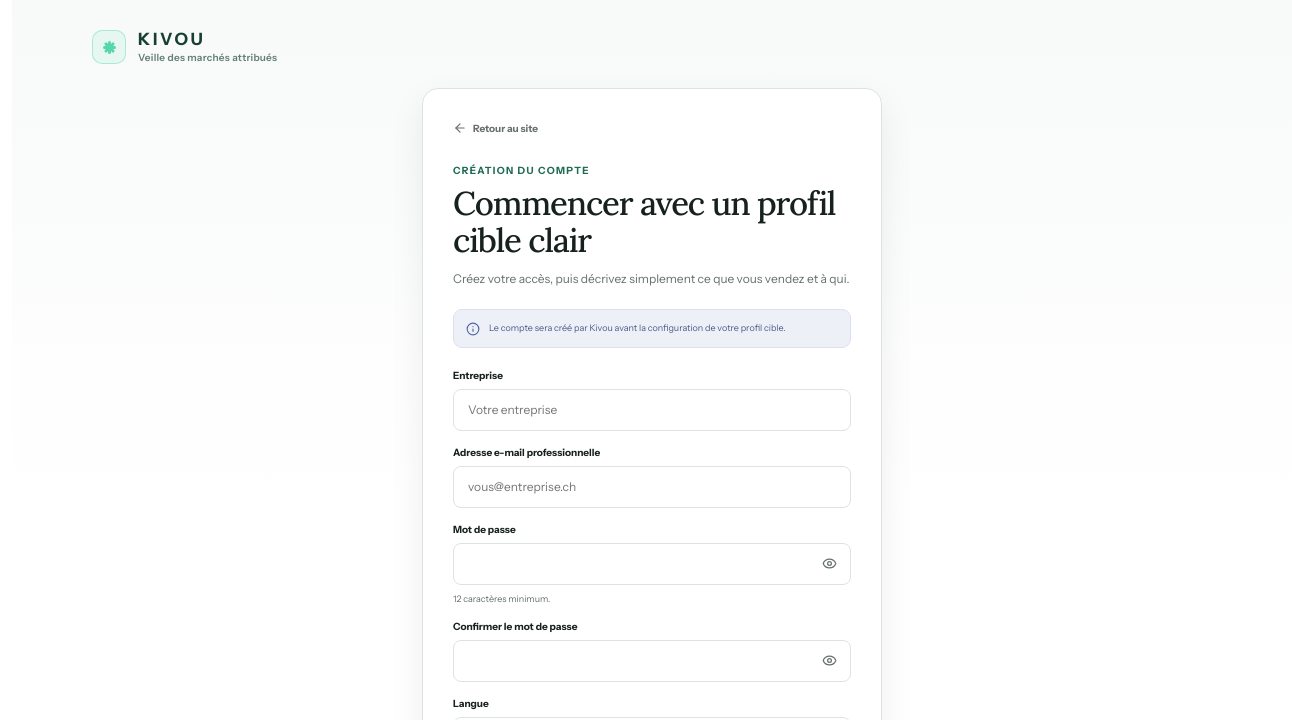
Test: parcours d’entrée de la référence connectée › transporte un choix payant du catalogue vers l’onboarding sans stockage
This screenshot has width=1292, height=720.
Type "Entreprise Test" into the field labelled "Entreprise". click: (652, 410)
box: [453, 388, 851, 430]
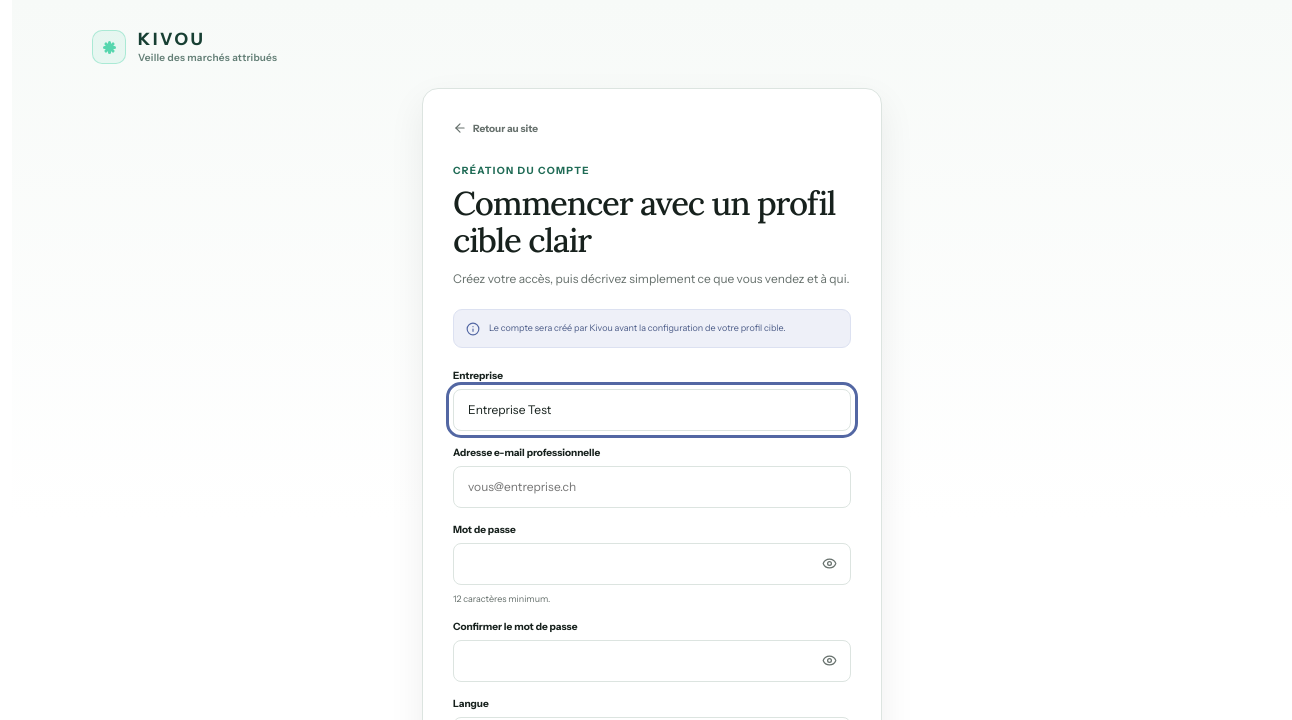
Type "test@example.test" into the field labelled "Adresse e-mail professionnelle". click: (652, 486)
box: [453, 466, 851, 508]
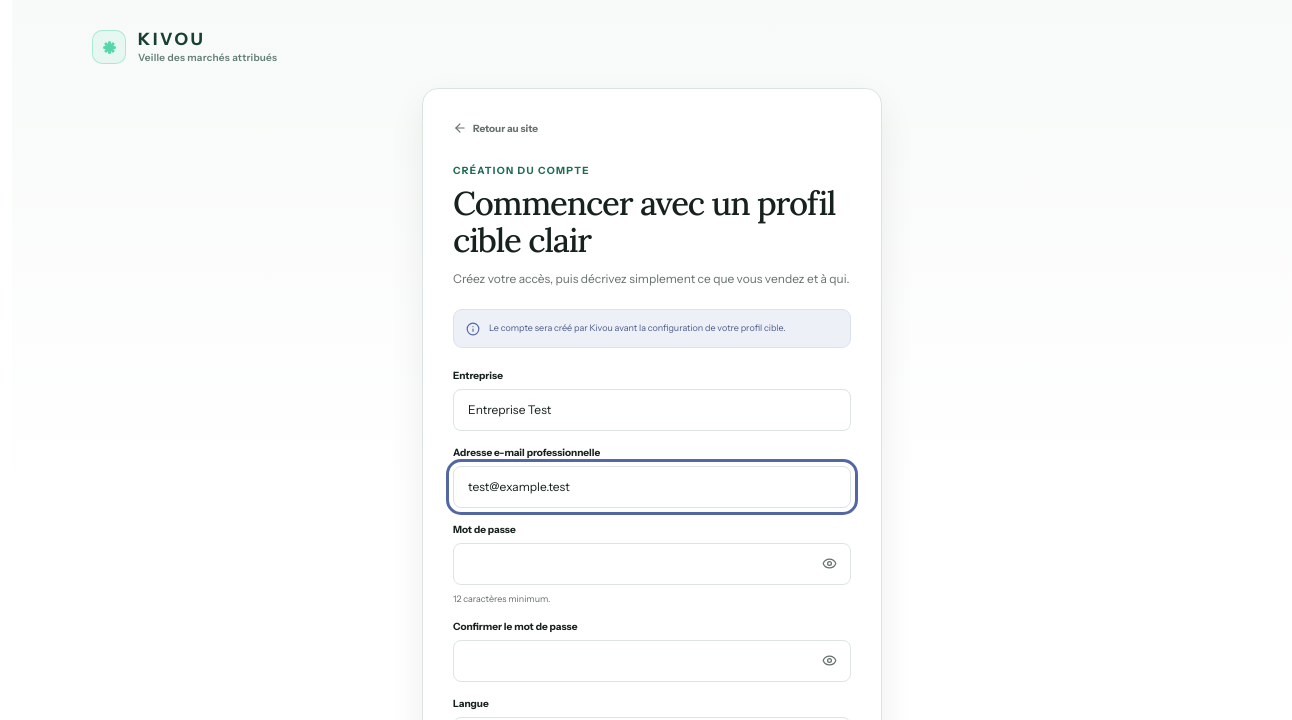
Type "correct-password" into the password field labelled "Mot de passe". click: (652, 564)
box: [453, 542, 851, 584]
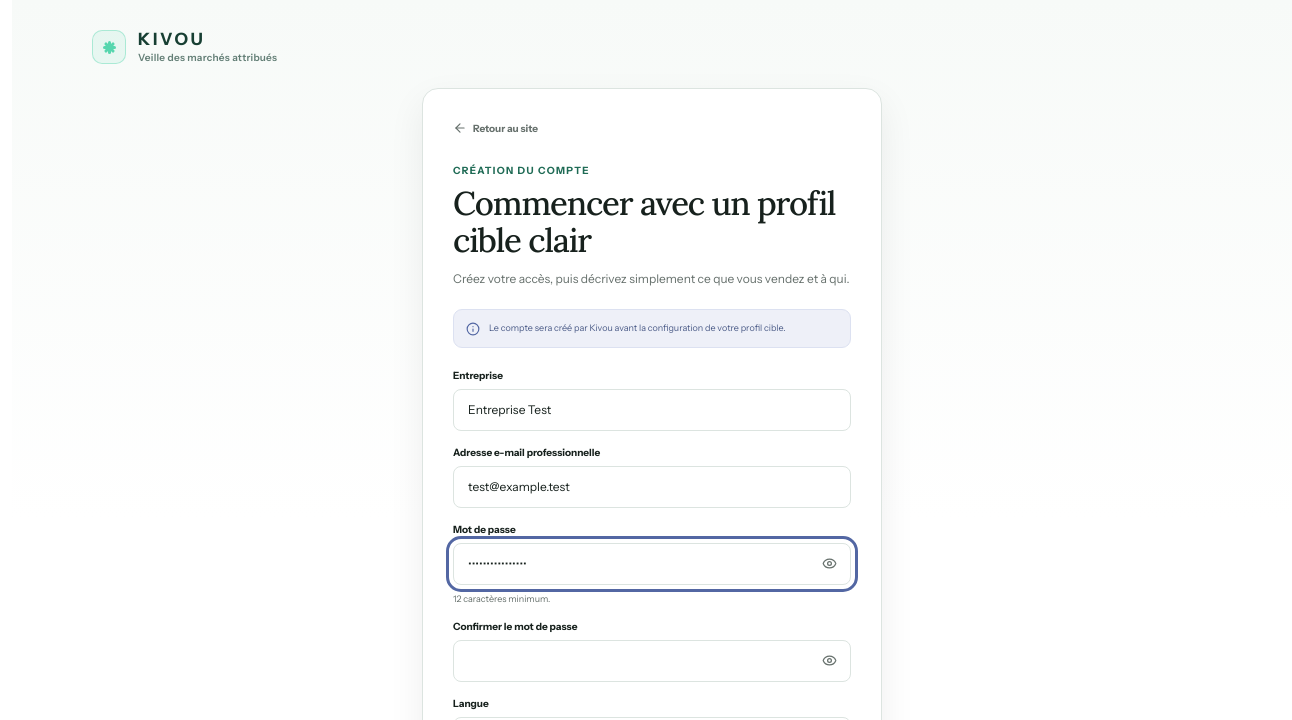
Type "correct-password" into the password field labelled "Confirmer le mot de passe". click: (652, 661)
box: [453, 640, 851, 682]
(page scrolled)
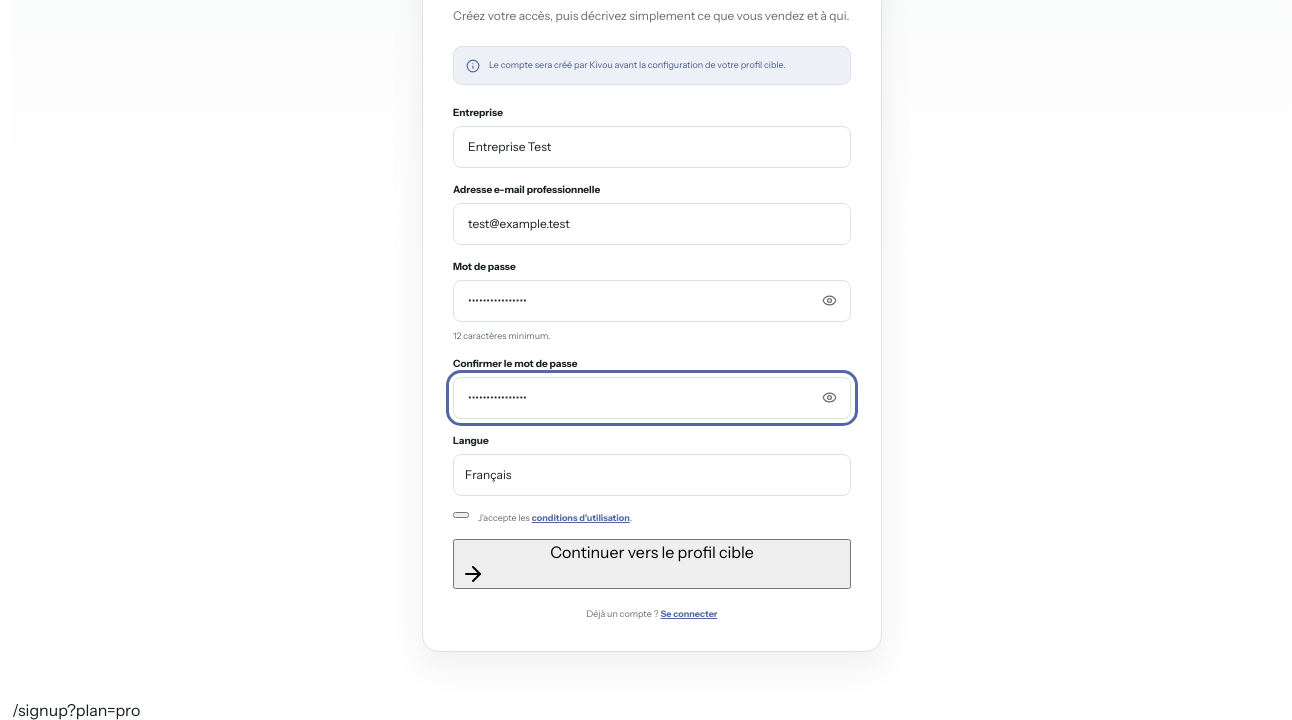
Click the checkbox. click: (461, 515)
box: [453, 512, 469, 518]
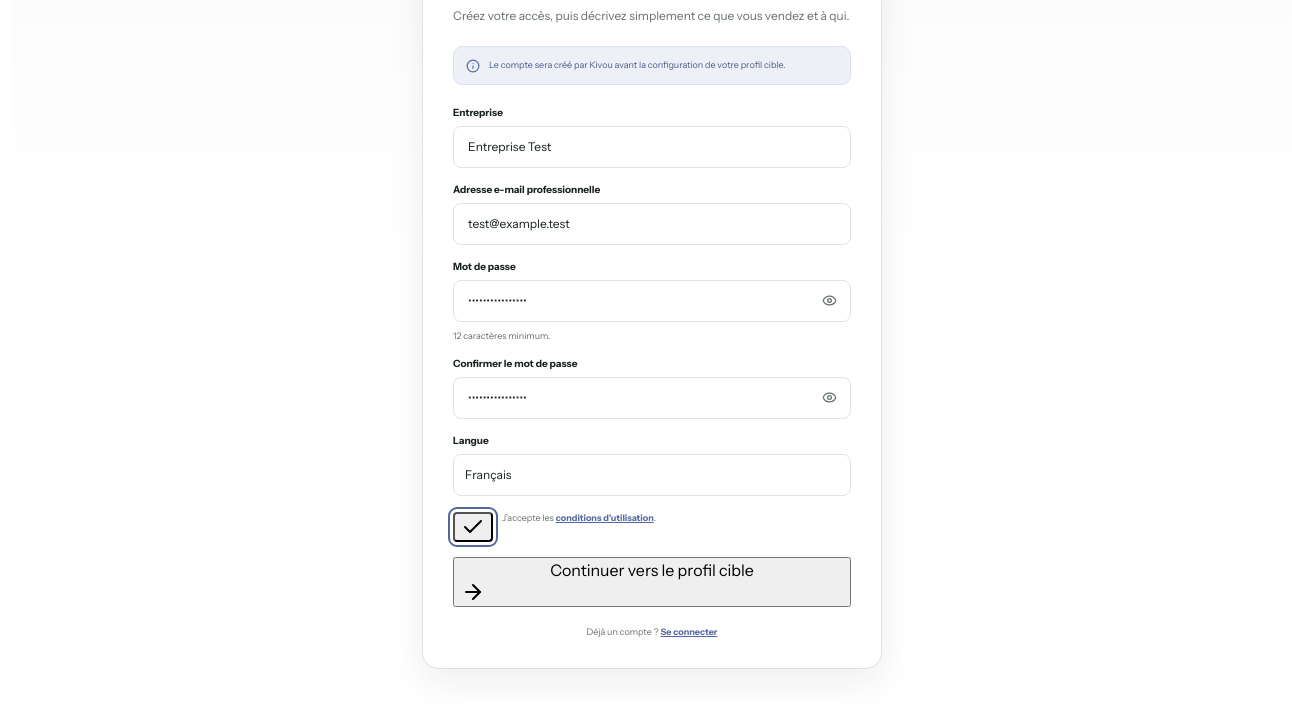
Click the button "Continuer vers le profil cible". click: (652, 582)
box: [453, 557, 851, 607]
(page scrolled)
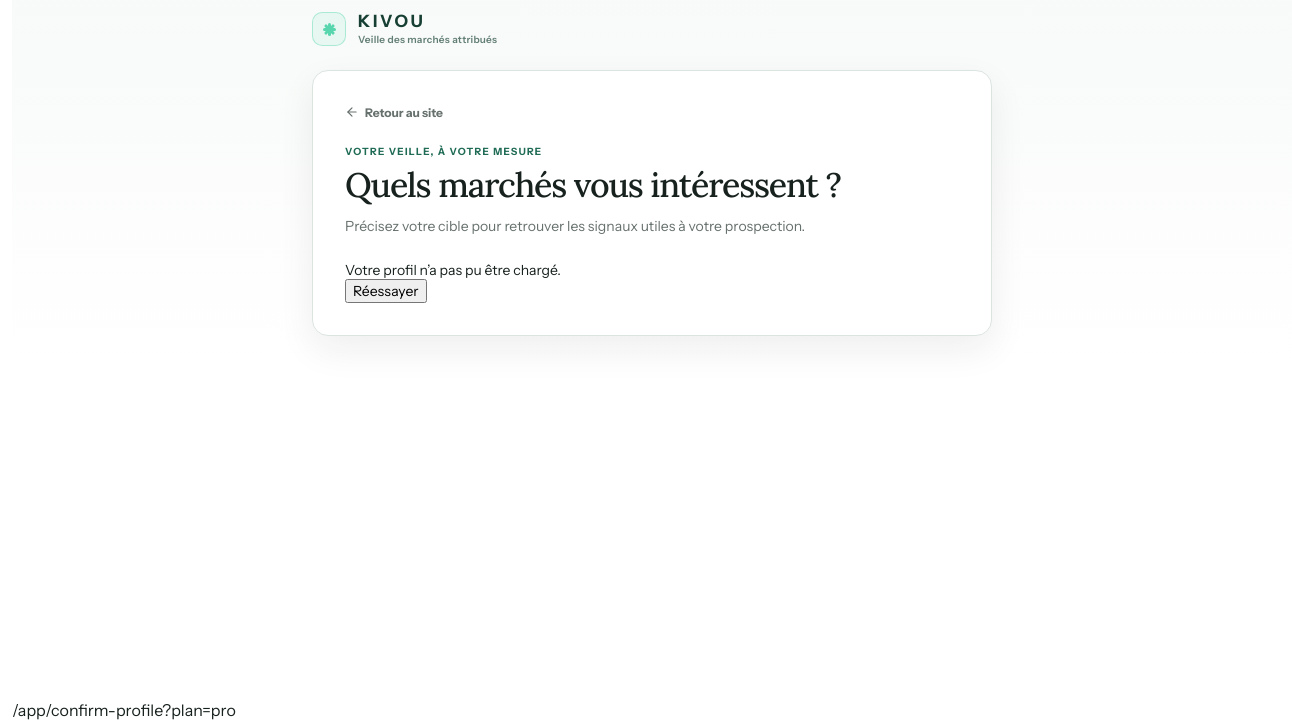
Expected: the text with test id "location" reads "/app/confirm-profile?plan=pro", [12, 700, 236, 719]
